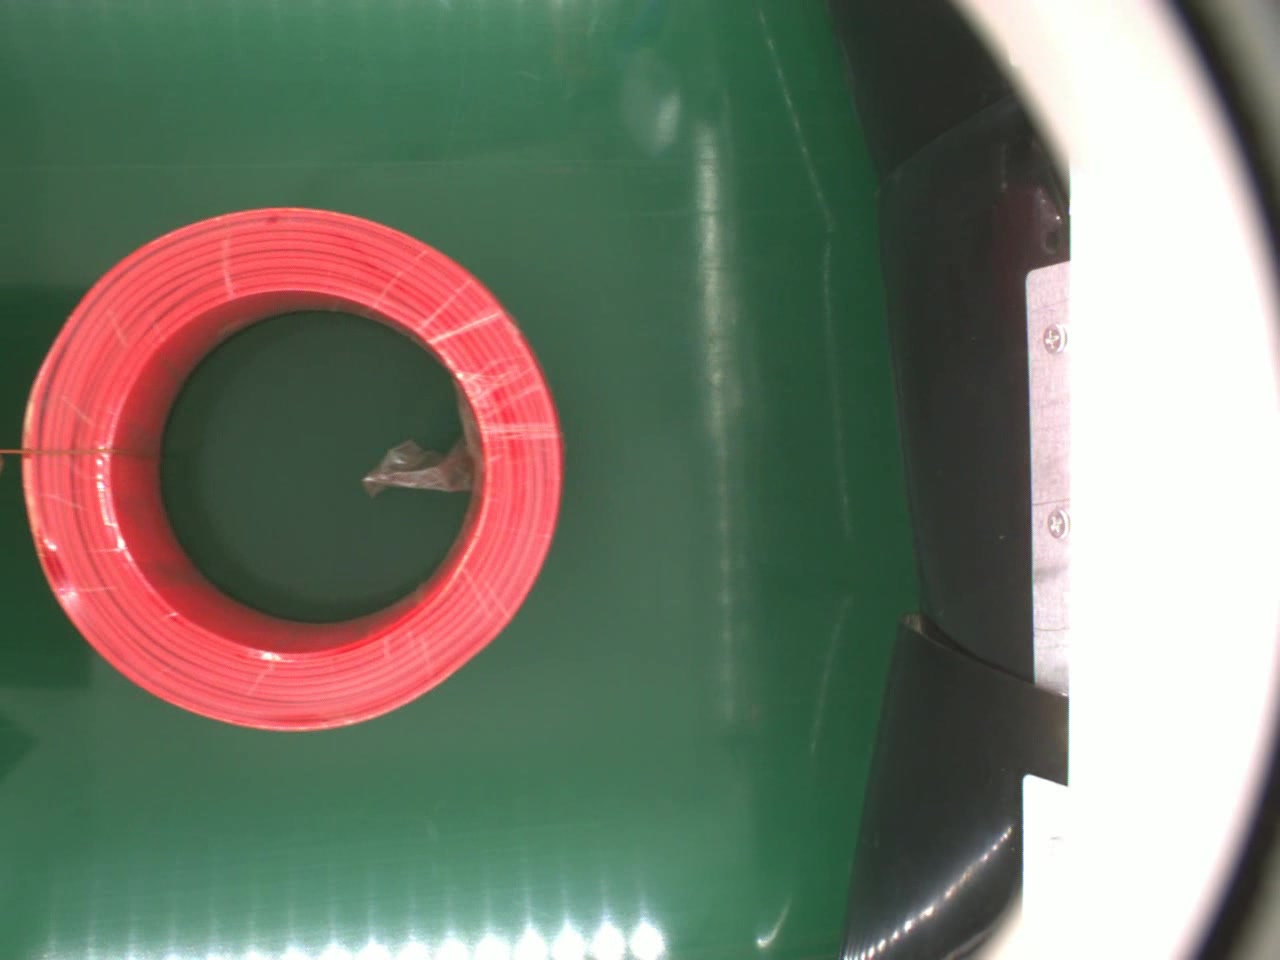red: (20, 206, 575, 731)
